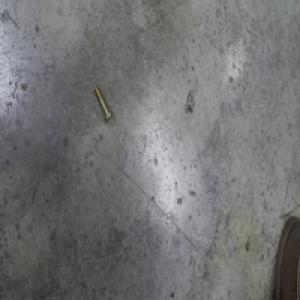Bolt: (93, 84, 112, 124)
